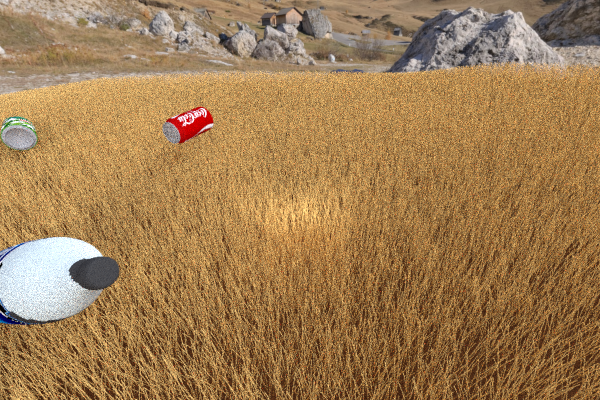bottle: (0, 237, 119, 324)
can: (162, 106, 213, 143), (0, 116, 37, 150)
